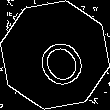O_NW: (23, 22, 87, 88)
